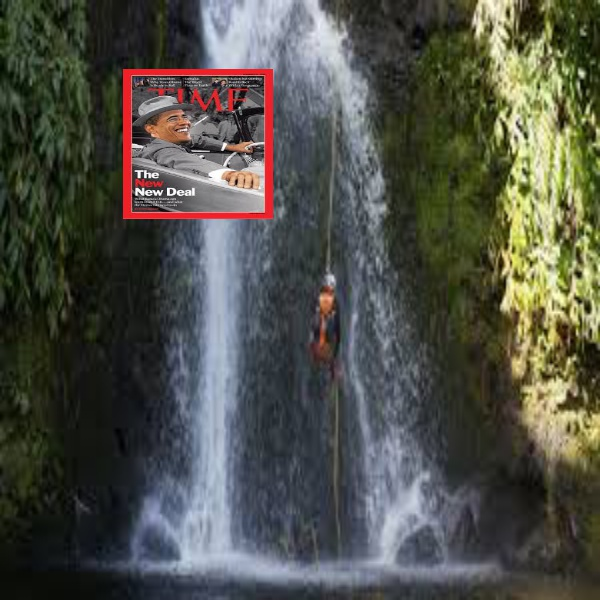time_cover: (117, 56, 286, 230)
